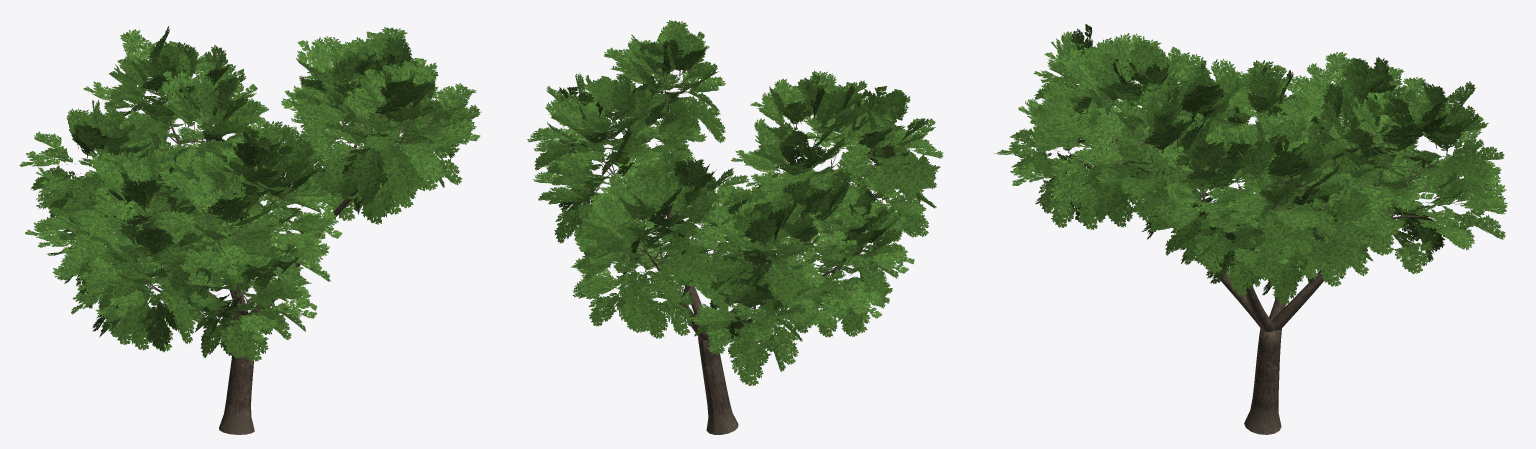
Rendered from Terihaboku.gltf.
The picture shows the model from 3 angles, left to right: view 1: azimuth 30°, elevation 25°; view 2: azimuth 150°, elevation 25°; view 3: azimuth 270°, elevation 25°; orthographic projection. The views are drawn at different scales.
Parts seen in each view (by area): view 1: Terihaboku; view 2: Terihaboku; view 3: Terihaboku.
Boxes of the visible parts, left/top/right/bottom form: Terihaboku: left=19, top=26, right=481, bottom=434; Terihaboku: left=527, top=20, right=943, bottom=434; Terihaboku: left=994, top=24, right=1507, bottom=434.
Size of the model in its own units: 10.59 by 9.63 by 12.1.
Materials: 2 (2 with a texture image).
